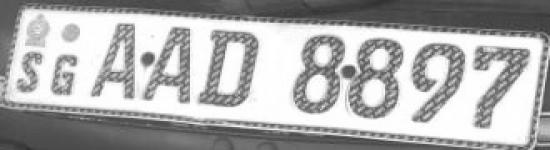7: (468, 43, 531, 133)
8: (350, 35, 407, 125), (293, 31, 346, 118)
9: (408, 38, 468, 134)
A: (140, 20, 193, 108), (90, 18, 138, 104)
D: (197, 25, 264, 116)
G: (50, 50, 85, 100)
S: (14, 49, 49, 95)
